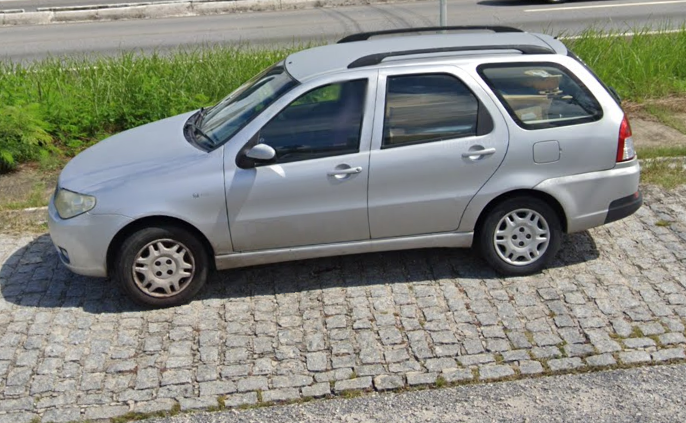car: (46, 20, 646, 308)
